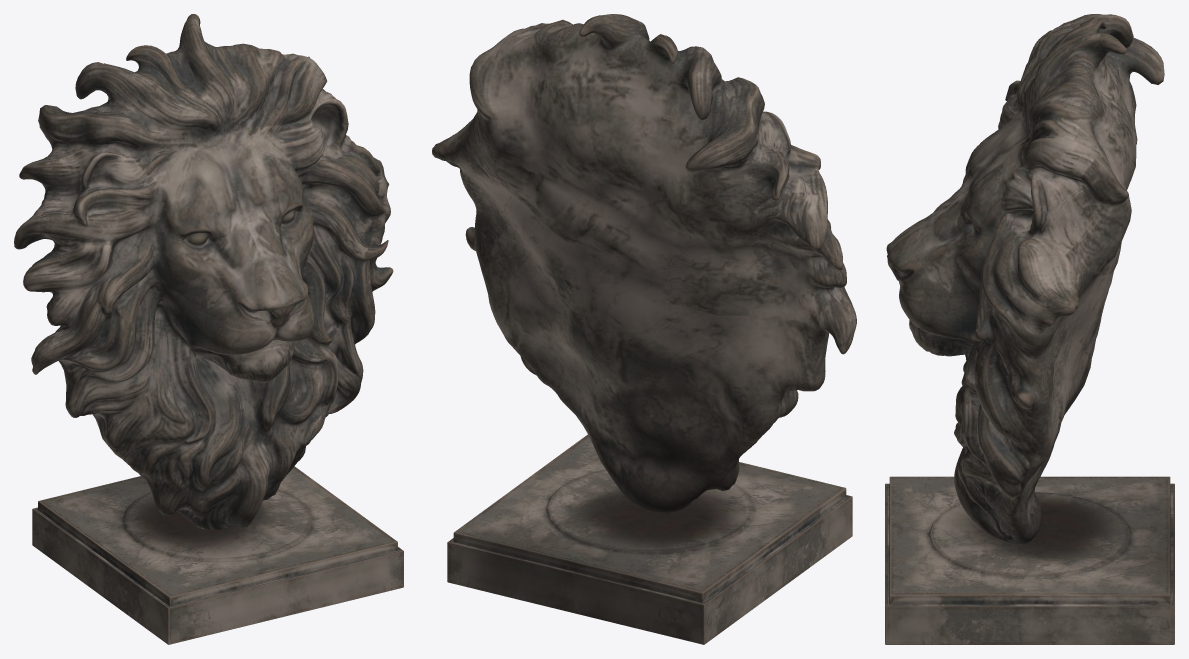
Rendered from lion_head_1k.glb.
3 renders of one model, left to right at view 1: azimuth 30°, elevation 25°; view 2: azimuth 150°, elevation 25°; view 3: azimuth 270°, elevation 25°, orthographic. The views are drawn at different scales.
Visible parts, largest first — view 1: lion_head; view 2: lion_head; view 3: lion_head.
Boxes of the visible parts, bbox=[...] form: lion_head: bbox=[14, 14, 403, 644]; lion_head: bbox=[432, 14, 856, 644]; lion_head: bbox=[885, 14, 1174, 644].
Size of the model in its own units: 0.3208 by 0.4364 by 0.2066.
1 material, 1 textured.
